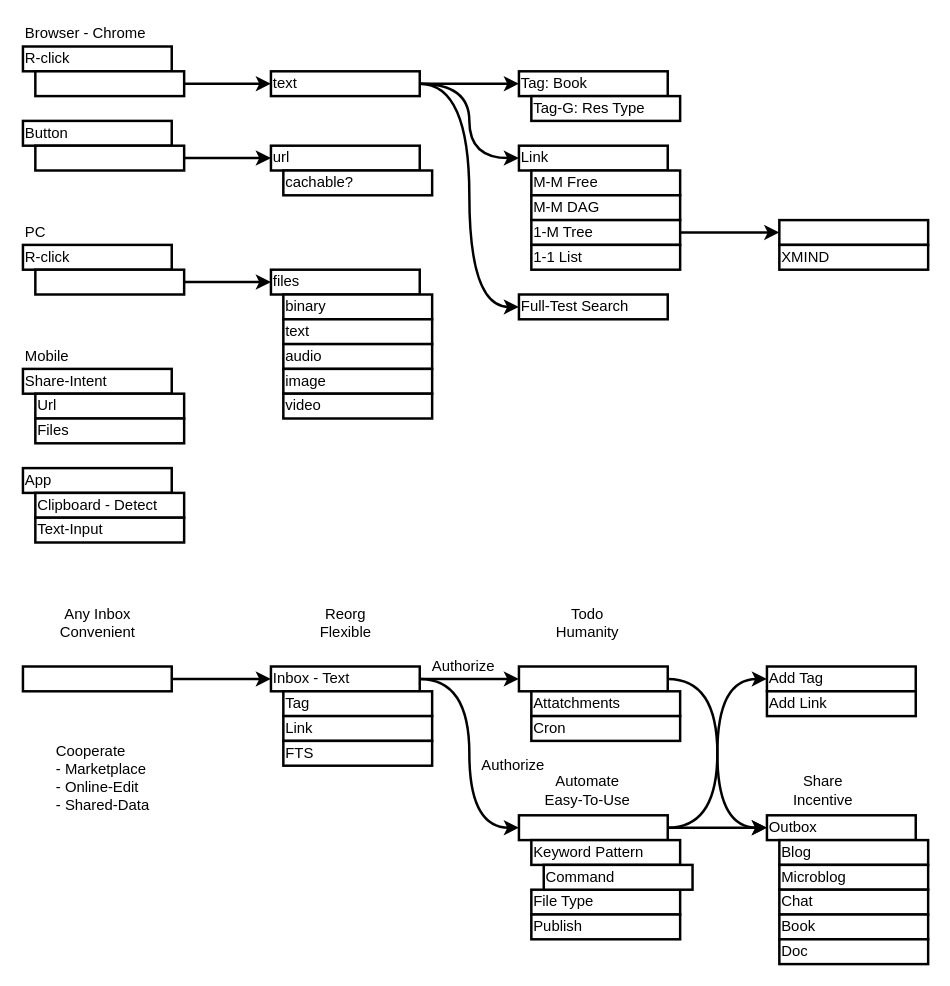
This 950x986 diagram has some shape labels left out. The centre of each missing label's shape, as x and y in pixels:
Action - On Track: pixel 592 678
Files -> Share: pixel 109 281
Folder Node: pixel 853 232
Share URL In BG: pixel 109 157
Text - Chrome-Share: pixel 96 678
Text -> Share: pixel 109 83
Workflow: pixel 592 827
